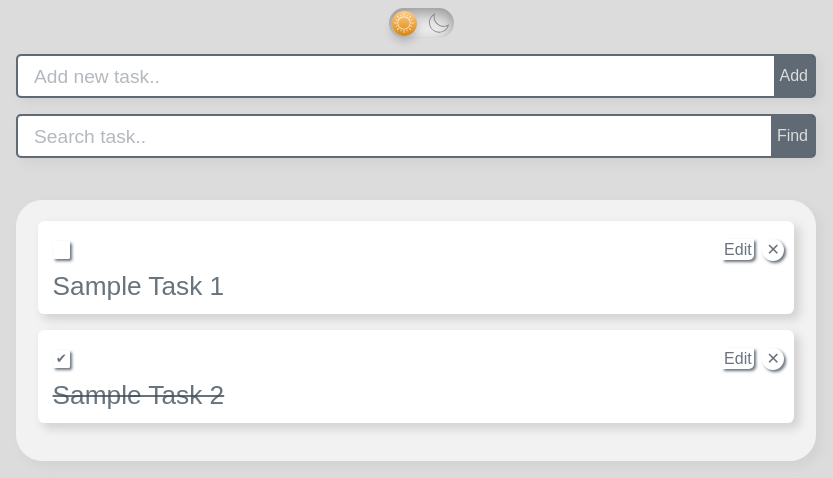
Test: App Component › filter the list when the 'Find' button is clicked
Step 1. Type "Sample Task 1" into the field with placeholder "Search task.." → (394, 136), box [18,116,771,156]
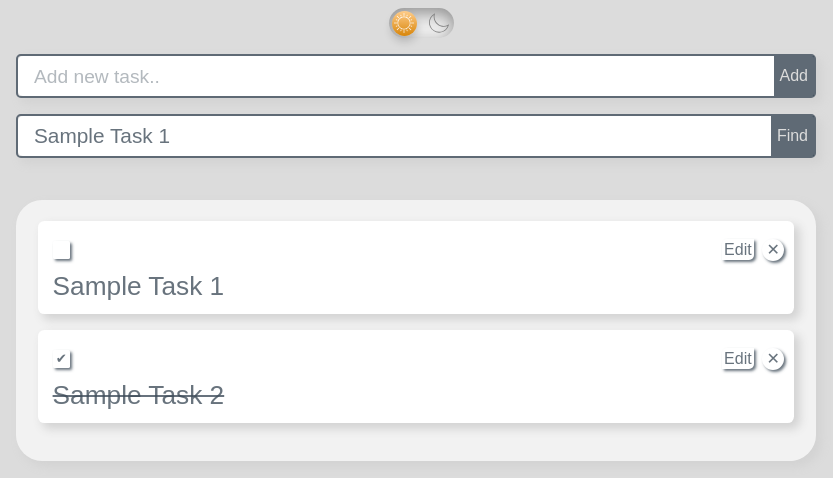
Step 2. Click the button "Find" → (792, 136), box [771,116,814,156]
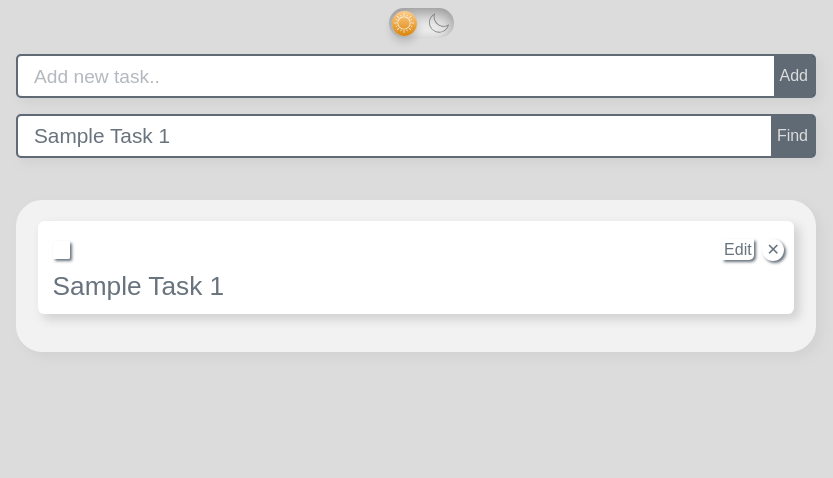
Check: the text "Sample Task 1" is shown, box [53,271,224,301]
Check: the button "Sample Task 2" is gone
